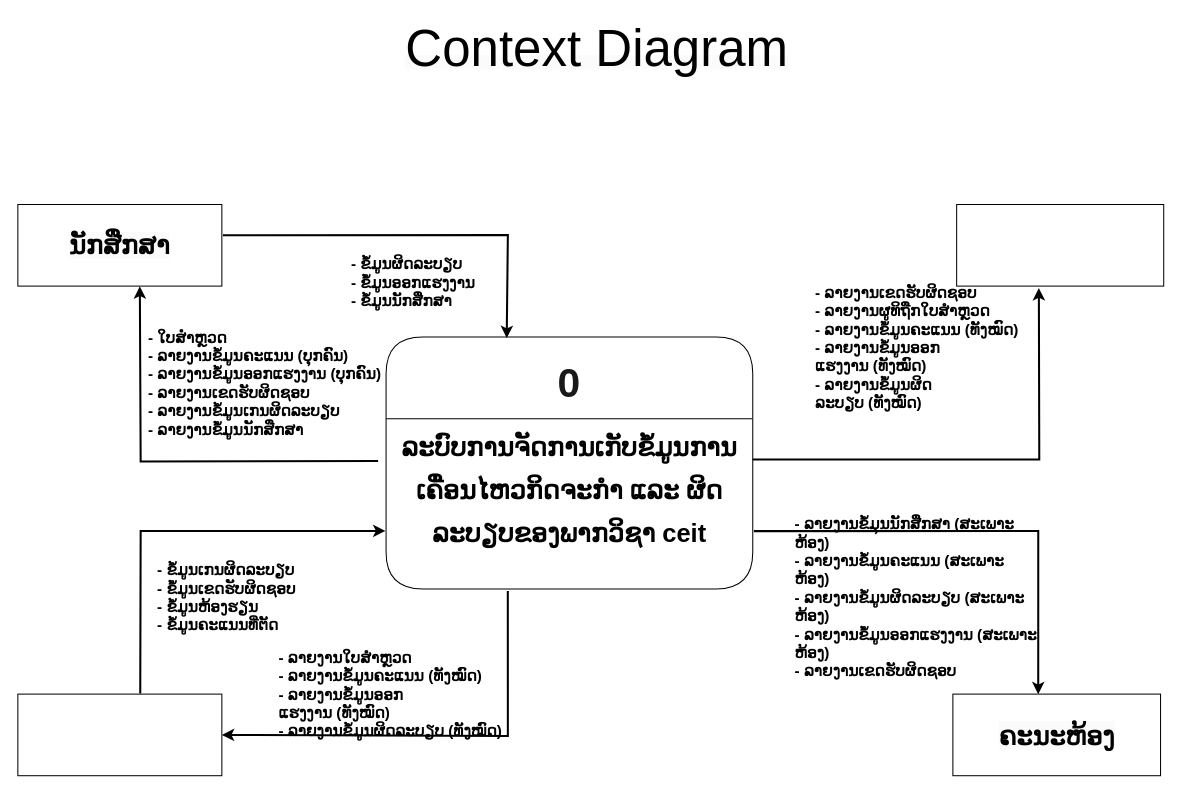
Image size: 1182x794. Some labels were removed from this diagram. Each missing label, with the centre of its shape:
ຫົວໜ້າພາກ: point (1060, 244)
ໜ່ວຍງານບໍລິຫານ: point (119, 734)
